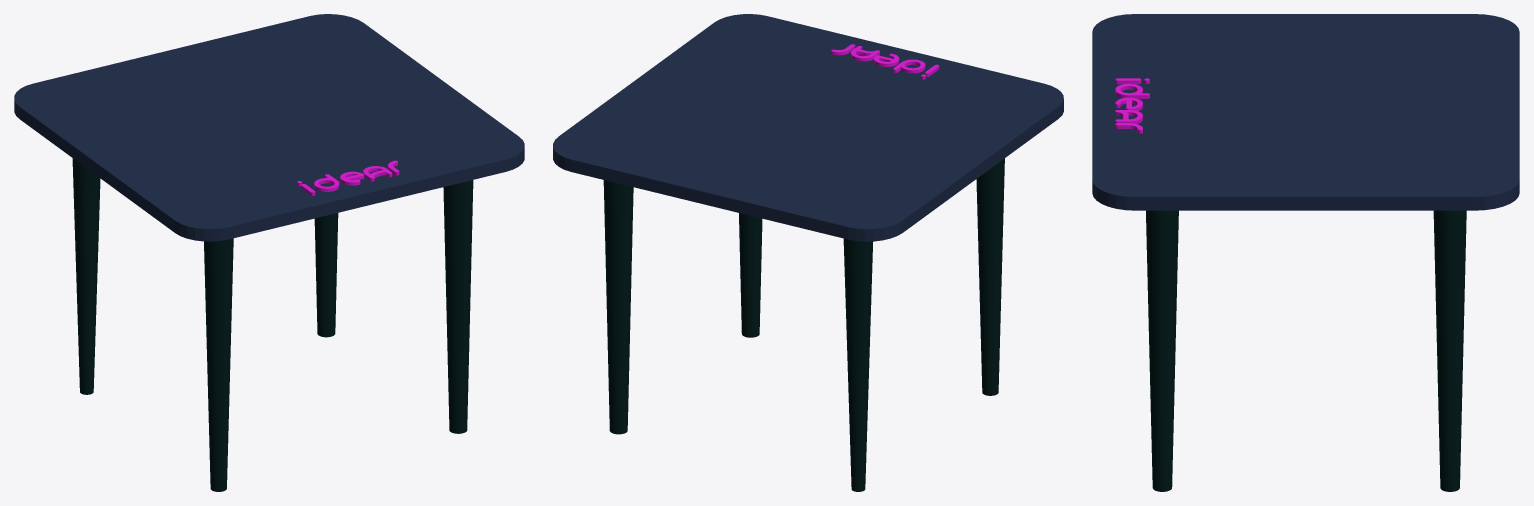
The model's file is Tabel 1.fbx.
3 renders of one model, left to right at view 1: azimuth 30°, elevation 25°; view 2: azimuth 150°, elevation 25°; view 3: azimuth 270°, elevation 25°, orthographic. The views are drawn at different scales.
Parts seen in each view (by area): view 1: Plane.001; view 2: Plane.001; view 3: Plane.001.
Part boxes in pixels (<box>): Plane.001: <box>14,14,524,491</box>; Plane.001: <box>553,14,1063,491</box>; Plane.001: <box>1092,14,1519,491</box>.
Size of the model in its own units: 157 by 128 by 154.
